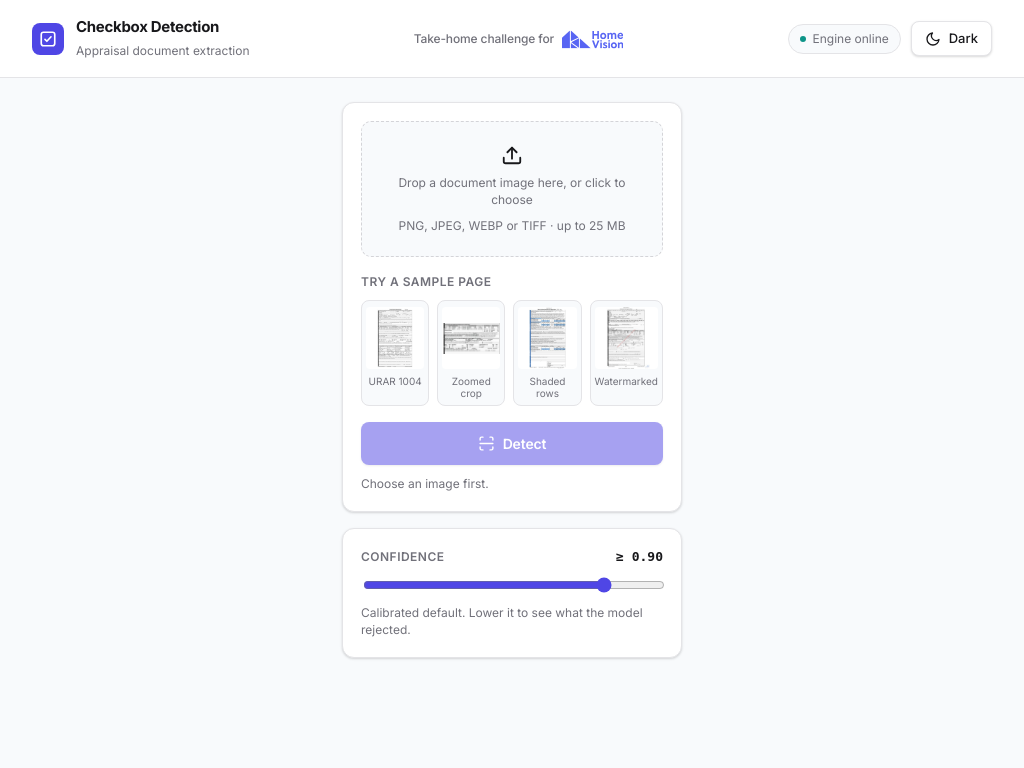
sample pages › names the page that failed rather than saying "something went wrong"
Click the button named "red watermark": (626, 353) [590,300,663,406]
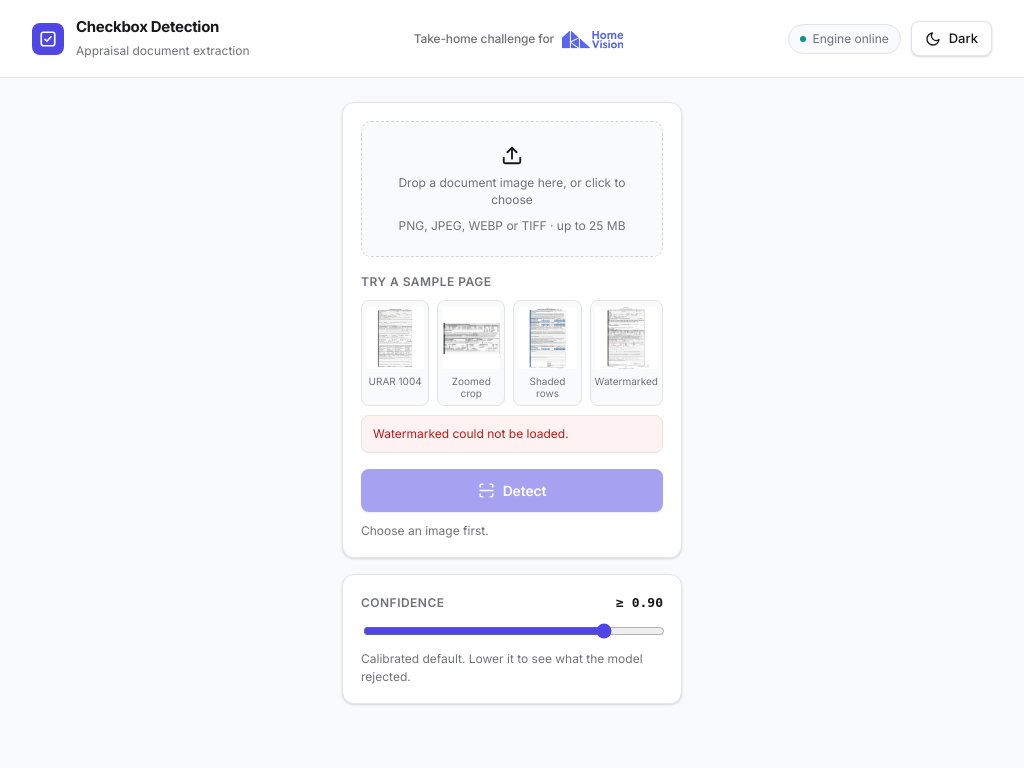
Result: the text "Watermarked could not be loaded." is shown at [361,415,663,453]
